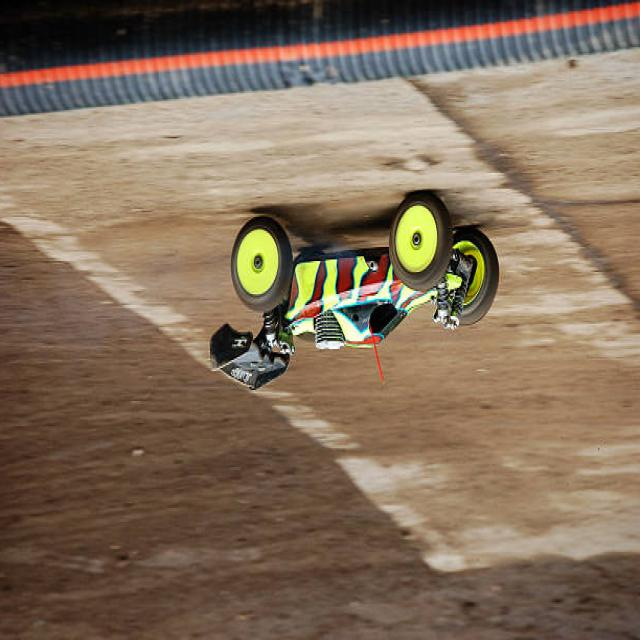Car: (210, 192, 499, 390)
